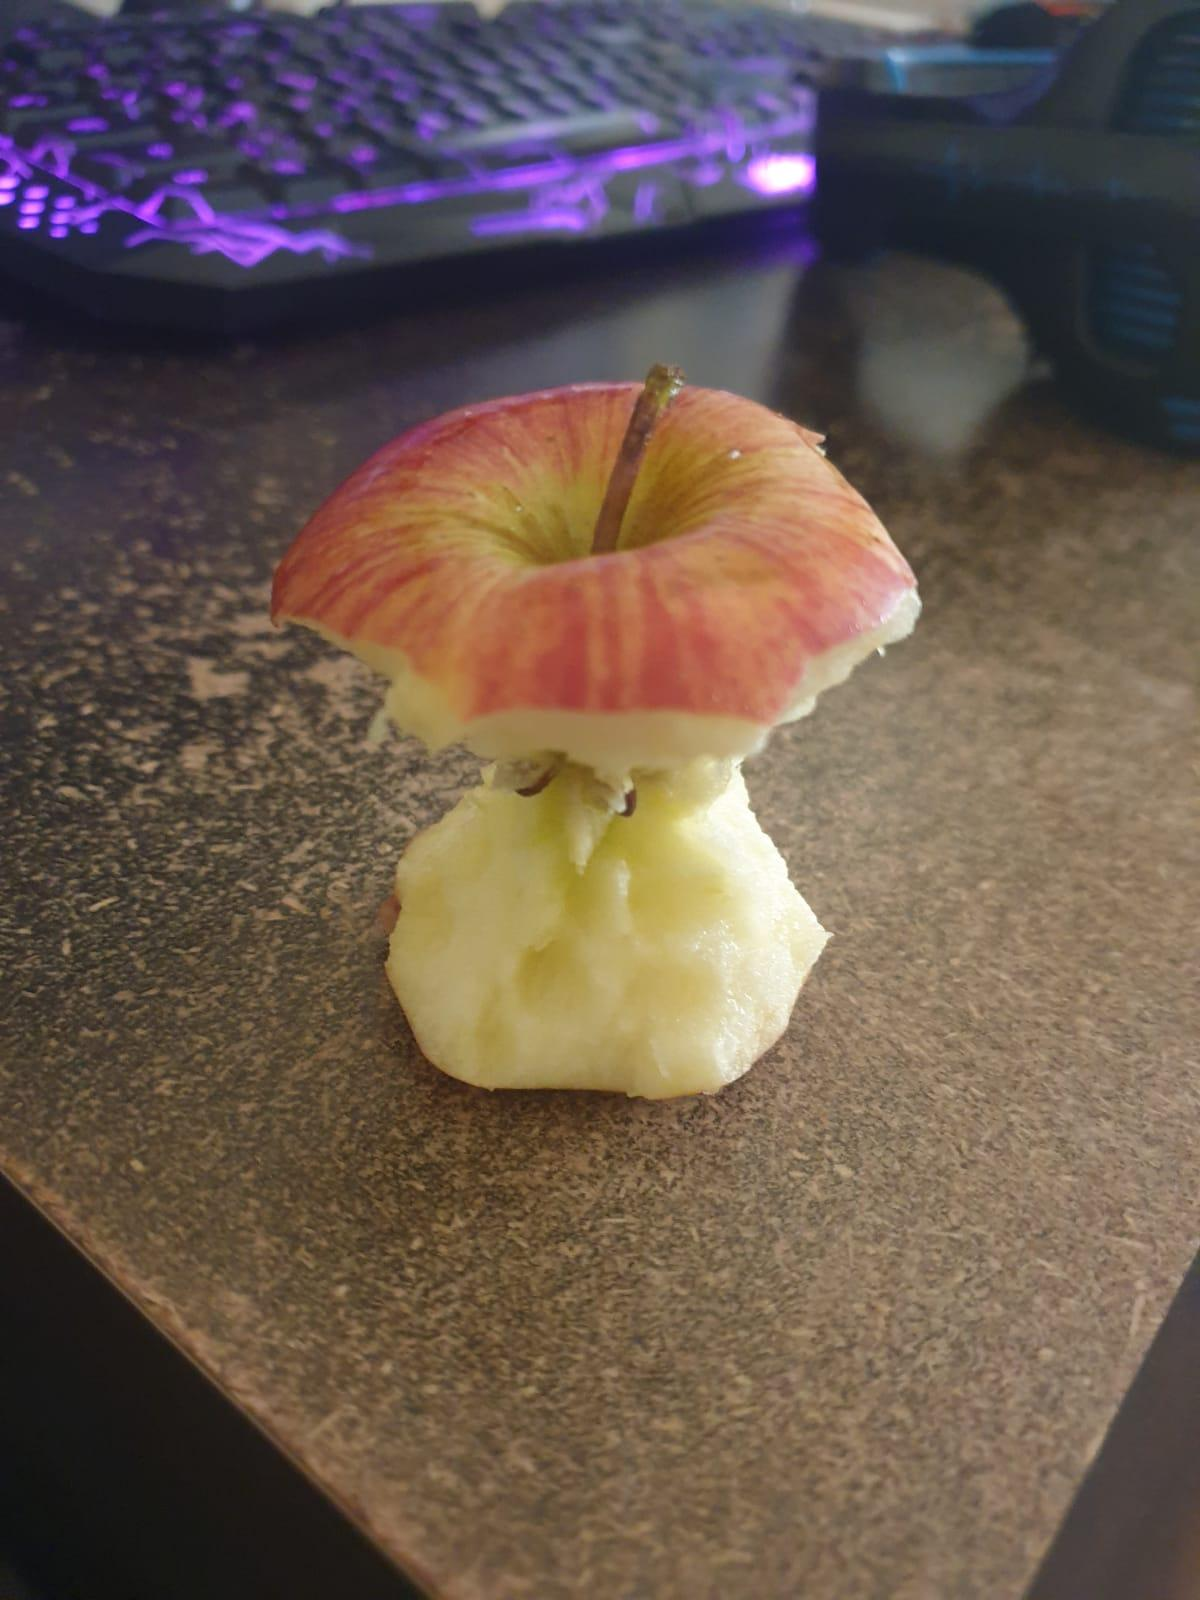Apple: (281, 362, 945, 1128)
